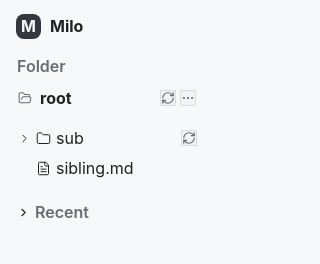
Scenario: folder expansion and request lifetimes › refreshes only the named subdirectory
This screenshot has width=320, height=264.
Click the button named "Refresh sub" at (189, 138), box [181, 130, 197, 146]
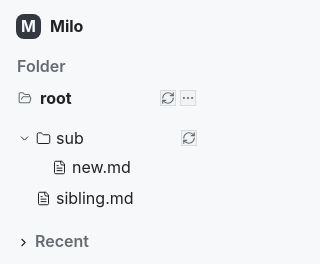
Expected: the button "sibling.md" is shown, [10, 184, 199, 213]
Expected: the button "new.md" is shown, [10, 153, 199, 183]
